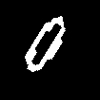chain: (25, 16, 64, 71)
